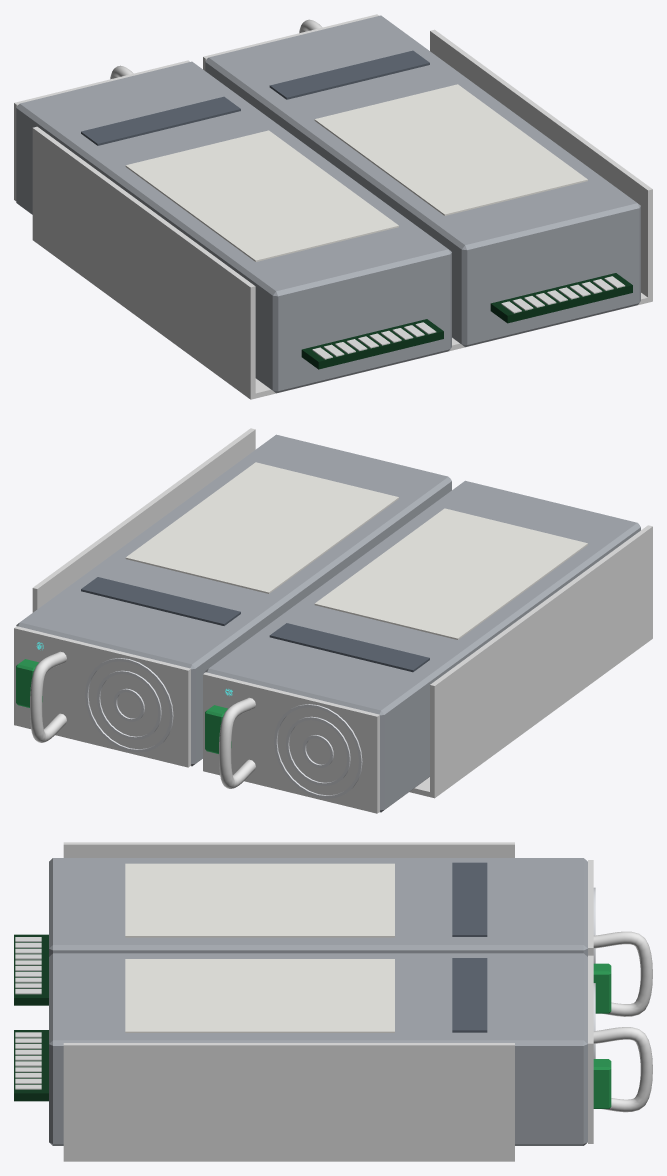
Rendered from hw_psu_2200w_red.glb.
3 views of the same model, one above another, from view 1: azimuth 30°, elevation 25°; view 2: azimuth 150°, elevation 25°; view 3: azimuth 270°, elevation 25° (orthographic). The views are drawn at different scales.
Visible parts, largest first — view 1: Body; view 2: Body; view 3: Body.
Part boxes in pixels (x1=…): Body: x1=14, y1=14, x2=652, y2=399; Body: x1=14, y1=428, x2=652, y2=813; Body: x1=14, y1=842, x2=652, y2=1161.
Size of the model in its own units: 0.165 by 0.044 by 0.2193.
